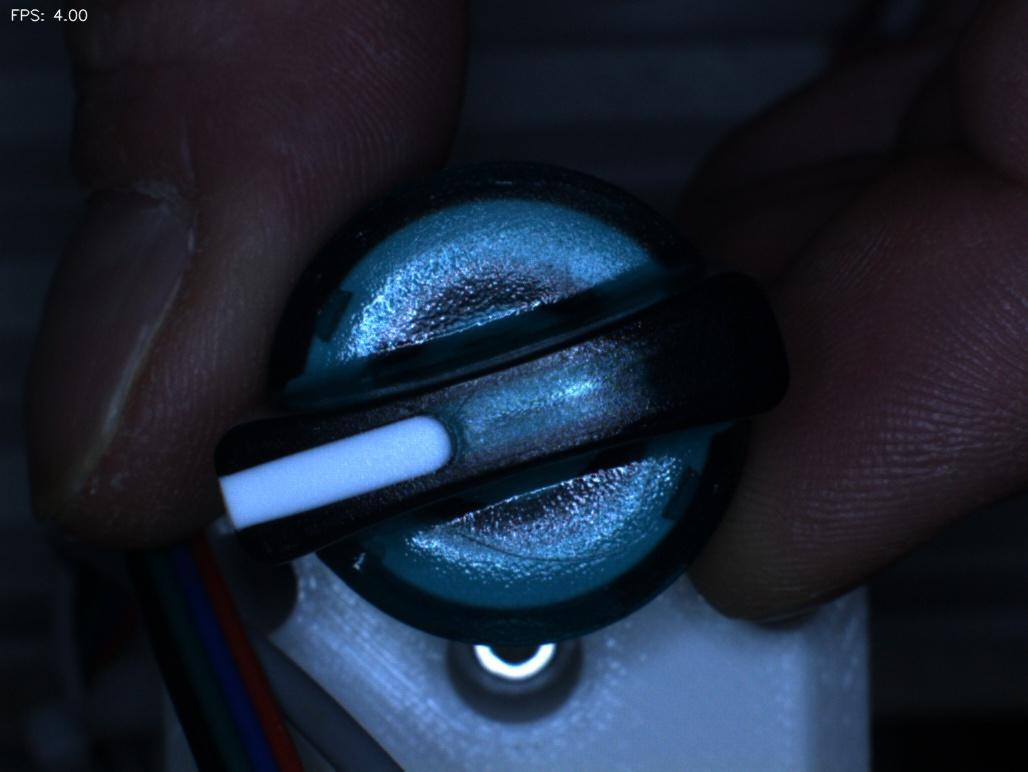Choc: (321, 523, 409, 606)
